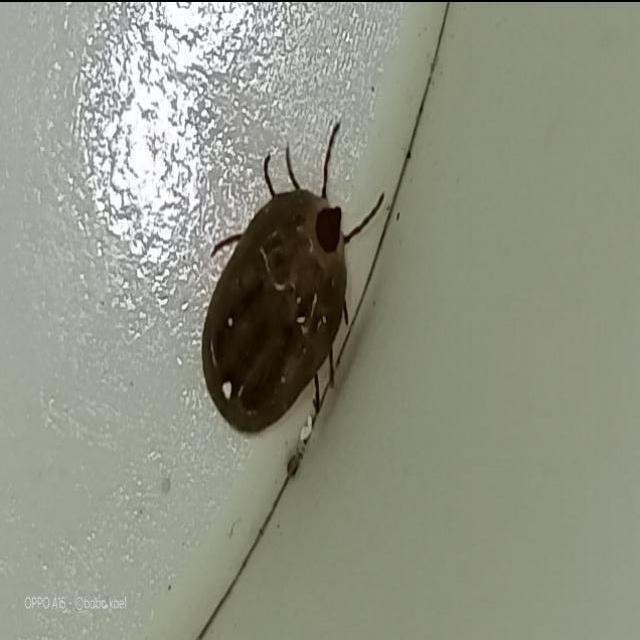Rhipicephalus Sanguineus-F-Fed: (202, 117, 386, 433)
